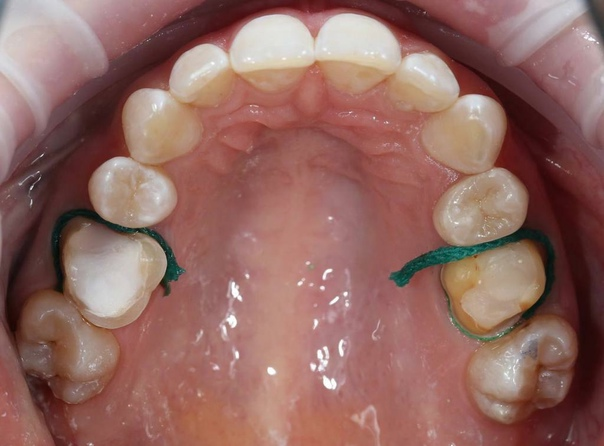UL1BC_healthy: (440, 176, 521, 231)
UL1M_decay: (470, 342, 573, 418)
UL2BC_decay: (463, 261, 530, 312)
ULCI_healthy: (312, 14, 400, 92)
ULC_healthy: (420, 101, 504, 173)
ULLI_healthy: (396, 54, 460, 111)
UR1BC_healthy: (92, 160, 177, 222)
UR1M_decay: (29, 307, 110, 393)
UR2BC_healthy: (73, 238, 150, 309)
URCI_healthy: (230, 16, 314, 94)
URC_healthy: (123, 90, 206, 164)
URLI_healthy: (171, 46, 234, 106)
